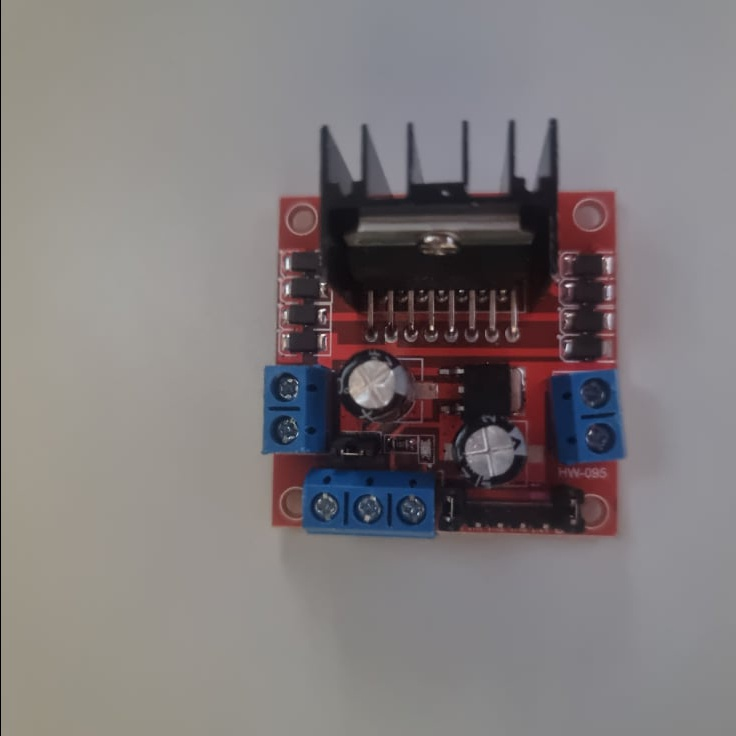MOTOR: (261, 115, 625, 536)
